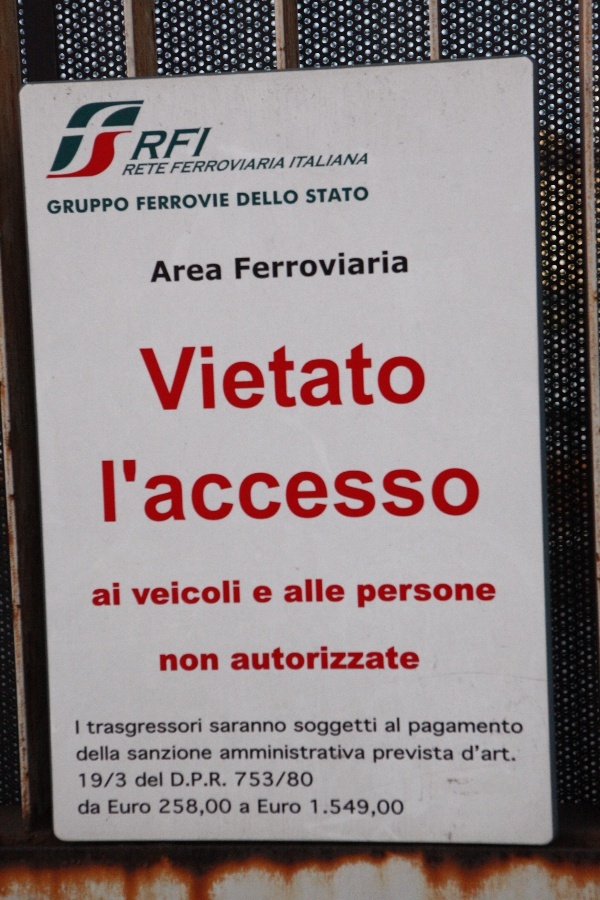text: (465, 450, 481, 531), (113, 450, 128, 531), (129, 450, 144, 531), (145, 450, 160, 531), (161, 450, 176, 531), (177, 450, 192, 531), (193, 450, 208, 531), (209, 450, 224, 531), (225, 450, 240, 531), (241, 450, 256, 531), (257, 450, 272, 531), (273, 450, 288, 531), (289, 450, 304, 531), (305, 450, 320, 531), (321, 450, 336, 531), (337, 450, 352, 531), (353, 450, 368, 531), (369, 450, 384, 531), (385, 450, 400, 531), (401, 450, 416, 531), (417, 450, 432, 531), (433, 450, 448, 531), (449, 450, 464, 531), (145, 343, 160, 414), (161, 343, 176, 414), (177, 343, 192, 414), (193, 343, 208, 414), (209, 343, 224, 414), (225, 343, 240, 414), (241, 343, 256, 414), (257, 343, 272, 414), (273, 343, 288, 414), (289, 343, 304, 414), (305, 343, 320, 414), (321, 343, 336, 414), (337, 343, 352, 414), (353, 343, 368, 414), (369, 343, 384, 414), (385, 343, 400, 414), (401, 343, 416, 414), (100, 450, 112, 531), (417, 343, 426, 414), (225, 572, 241, 608), (145, 126, 160, 163), (161, 126, 176, 163), (177, 126, 192, 163), (193, 126, 208, 163), (145, 572, 160, 608), (161, 572, 176, 608), (177, 572, 192, 608), (193, 572, 208, 608), (209, 572, 224, 608), (241, 247, 256, 282), (257, 247, 272, 282), (273, 247, 288, 282), (289, 247, 304, 282), (305, 247, 320, 282), (321, 247, 336, 282), (337, 247, 352, 282), (353, 247, 368, 282), (369, 247, 384, 282), (385, 247, 400, 282), (131, 572, 144, 608), (289, 577, 304, 608), (305, 577, 320, 608), (321, 577, 336, 608), (241, 644, 256, 675), (257, 644, 272, 675), (273, 644, 288, 675), (289, 644, 304, 675), (305, 644, 320, 675), (321, 644, 336, 675), (337, 644, 352, 675), (353, 644, 368, 675), (369, 644, 384, 675), (385, 644, 400, 675), (401, 644, 416, 675), (369, 581, 384, 611), (385, 581, 400, 611), (401, 581, 416, 611), (417, 581, 432, 611), (433, 581, 448, 611), (449, 581, 464, 611), (465, 581, 480, 611), (481, 581, 496, 611), (97, 581, 112, 608), (161, 259, 176, 284), (177, 259, 192, 284), (193, 259, 208, 284), (139, 343, 144, 414), (305, 717, 320, 740), (321, 717, 336, 740), (337, 717, 352, 740), (353, 717, 368, 740), (357, 581, 368, 611), (97, 718, 112, 740), (113, 718, 128, 740), (129, 718, 144, 740), (145, 718, 160, 740), (161, 718, 176, 740), (177, 718, 192, 740), (209, 259, 222, 284), (257, 585, 272, 606), (177, 157, 192, 177), (193, 157, 208, 177), (209, 157, 224, 177), (225, 157, 240, 177), (241, 157, 256, 177), (257, 157, 272, 177), (161, 654, 176, 674), (177, 654, 192, 674), (193, 654, 208, 674), (385, 744, 400, 764), (401, 744, 416, 764), (417, 744, 432, 764), (433, 744, 448, 764), (321, 799, 336, 819), (337, 799, 352, 819), (353, 799, 368, 819), (369, 799, 384, 819), (385, 799, 400, 819), (113, 197, 129, 215), (145, 193, 160, 212), (161, 193, 176, 212), (177, 193, 192, 212), (193, 193, 208, 212), (209, 193, 224, 212), (241, 190, 256, 209), (257, 190, 272, 209), (273, 190, 288, 209), (417, 720, 432, 739), (433, 720, 448, 739), (449, 720, 464, 739), (465, 720, 480, 739), (481, 720, 496, 739), (497, 720, 512, 739), (465, 744, 480, 763), (481, 744, 496, 763), (497, 744, 512, 763), (161, 798, 176, 817), (177, 798, 192, 817), (193, 798, 208, 817), (209, 798, 224, 817), (401, 247, 409, 282), (337, 577, 346, 608), (353, 187, 369, 204), (49, 197, 64, 215), (65, 197, 80, 215), (81, 197, 96, 215), (97, 197, 112, 215), (129, 745, 144, 763), (145, 745, 160, 763), (161, 745, 176, 763), (177, 745, 192, 763), (193, 745, 208, 763), (225, 743, 240, 761), (241, 743, 256, 761), (257, 743, 272, 761), (273, 743, 288, 761), (289, 743, 304, 761), (305, 743, 320, 761), (321, 743, 336, 761), (337, 743, 352, 761), (241, 771, 256, 789), (257, 771, 272, 789), (273, 771, 288, 789), (289, 771, 304, 789), (321, 187, 336, 204), (337, 187, 352, 204), (385, 718, 400, 735), (81, 746, 96, 763), (97, 746, 112, 763), (81, 772, 96, 789), (97, 772, 112, 789), (145, 772, 160, 789), (177, 772, 192, 789), (193, 772, 208, 789), (209, 772, 224, 789), (81, 799, 96, 816), (113, 799, 128, 816), (129, 799, 144, 816), (273, 799, 288, 816), (232, 644, 240, 675), (129, 163, 144, 179), (145, 163, 160, 179), (273, 157, 285, 177), (305, 153, 320, 169), (321, 153, 336, 169), (337, 153, 352, 169), (353, 153, 368, 169), (113, 772, 127, 789), (258, 799, 272, 816), (294, 717, 304, 740), (307, 187, 320, 204), (373, 744, 384, 764), (113, 581, 121, 608), (353, 743, 365, 761), (225, 721, 240, 735), (241, 721, 256, 735), (257, 721, 272, 735), (289, 799, 301, 816), (209, 654, 219, 674), (87, 718, 96, 740), (193, 718, 202, 740), (513, 720, 523, 739), (209, 126, 214, 163), (211, 721, 224, 735), (273, 721, 286, 735), (311, 799, 320, 819), (235, 247, 240, 282), (289, 190, 298, 209), (369, 717, 376, 740), (294, 153, 304, 169), (161, 163, 170, 179), (305, 771, 313, 789), (136, 772, 144, 789), (137, 193, 144, 212), (409, 720, 416, 739), (225, 798, 231, 817), (241, 803, 250, 815), (113, 746, 119, 763), (145, 799, 151, 816), (285, 577, 288, 608), (417, 644, 420, 675), (235, 771, 240, 789), (171, 772, 176, 789), (93, 581, 96, 608), (449, 744, 453, 764), (225, 193, 229, 212), (157, 259, 160, 284), (108, 799, 112, 816), (76, 720, 80, 736), (253, 585, 256, 606), (401, 799, 404, 819), (237, 190, 240, 209), (513, 744, 516, 763), (209, 745, 212, 763), (221, 743, 224, 761), (77, 746, 80, 763), (97, 799, 100, 816), (462, 744, 464, 763), (143, 126, 144, 163), (161, 772, 163, 789), (175, 157, 176, 177), (79, 772, 80, 789), (225, 772, 226, 789), (79, 799, 80, 816)
